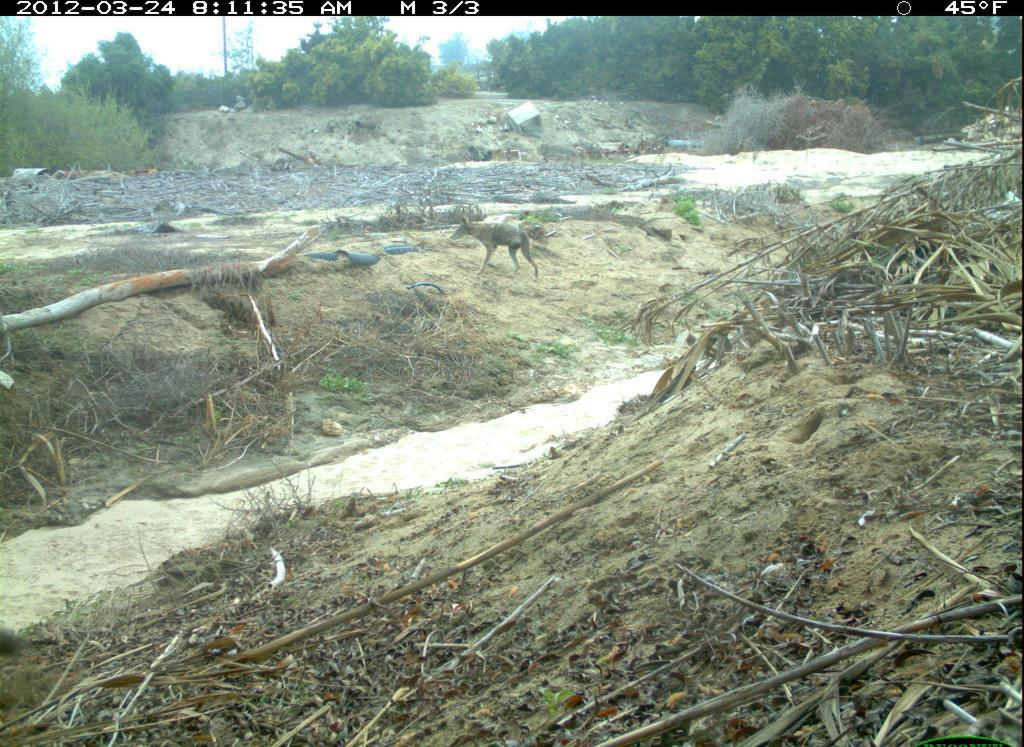coyote: (445, 212, 551, 282)
